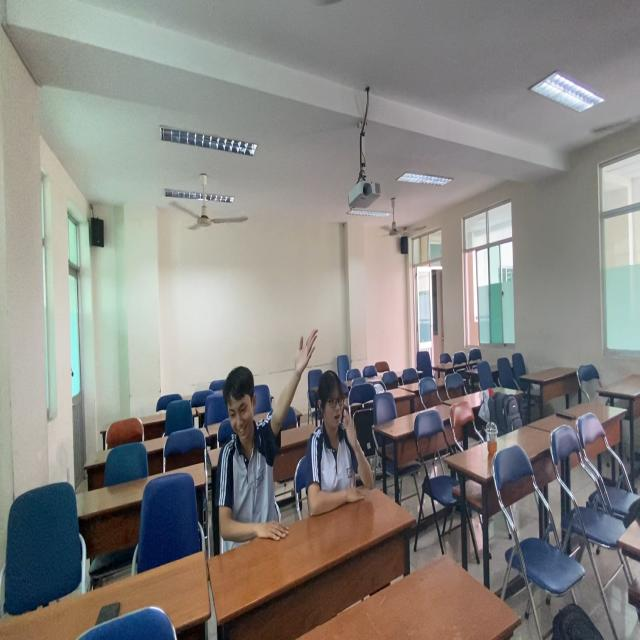raise_hand: (200, 324, 325, 556)
